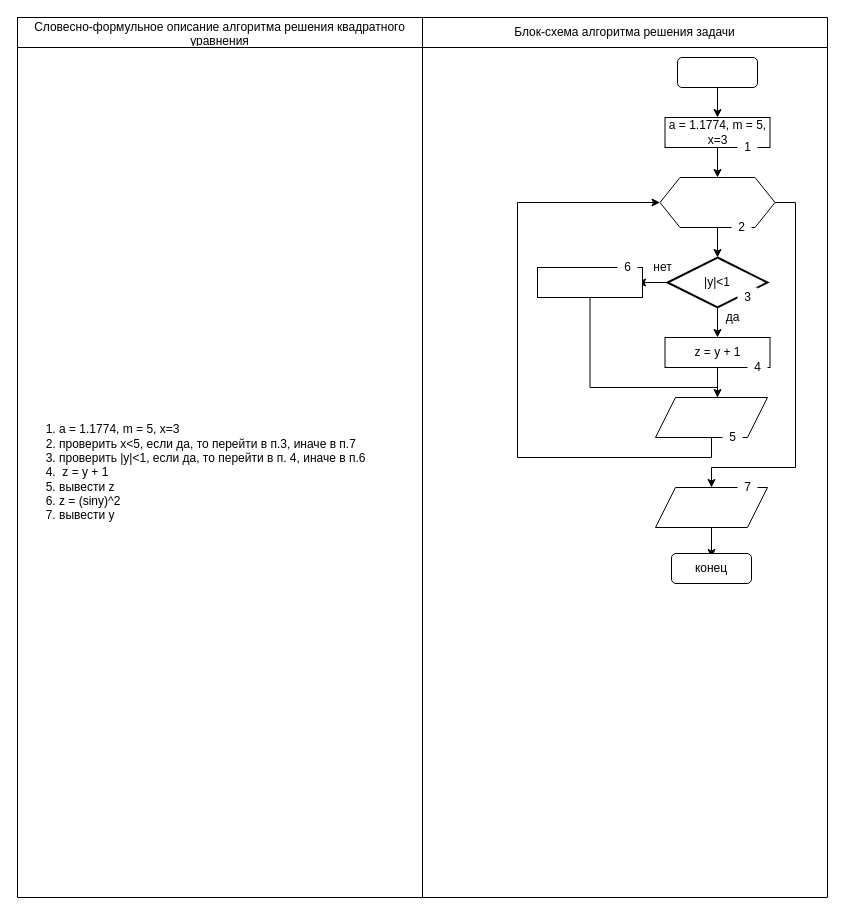
The diagram is 845 pixels wide and 915 high, and some of its shapes have lost their labels. Each missing label, with the box of its shape:
x=3;5: (659, 176, 775, 228)
z = (siny)^2: (536, 266, 642, 298)
вывод y: (654, 486, 768, 528)
вывод z: (654, 396, 768, 438)
начало: (676, 56, 758, 88)
